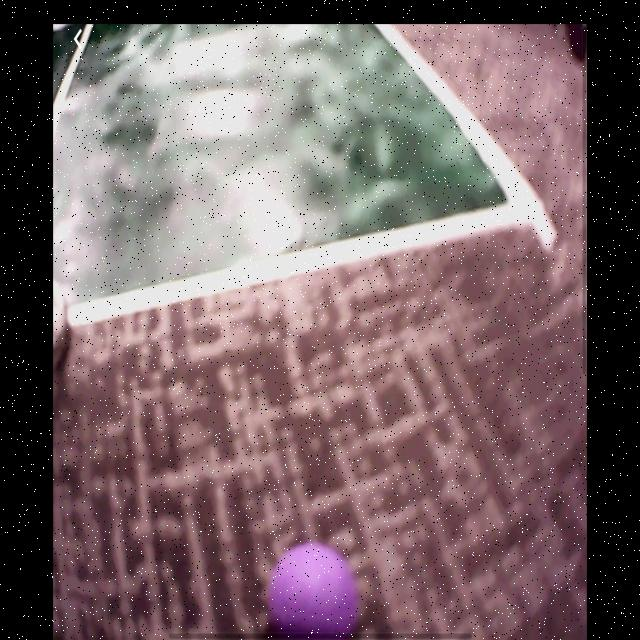ball: (269, 545, 362, 640)
